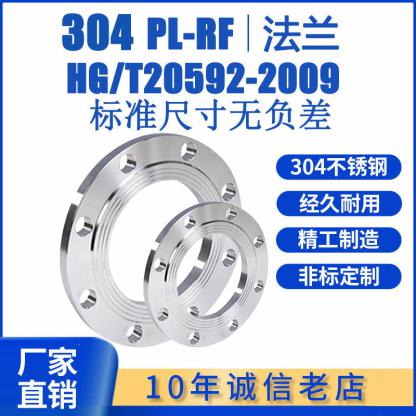FOD: (56, 131, 246, 348), (140, 200, 269, 349)
